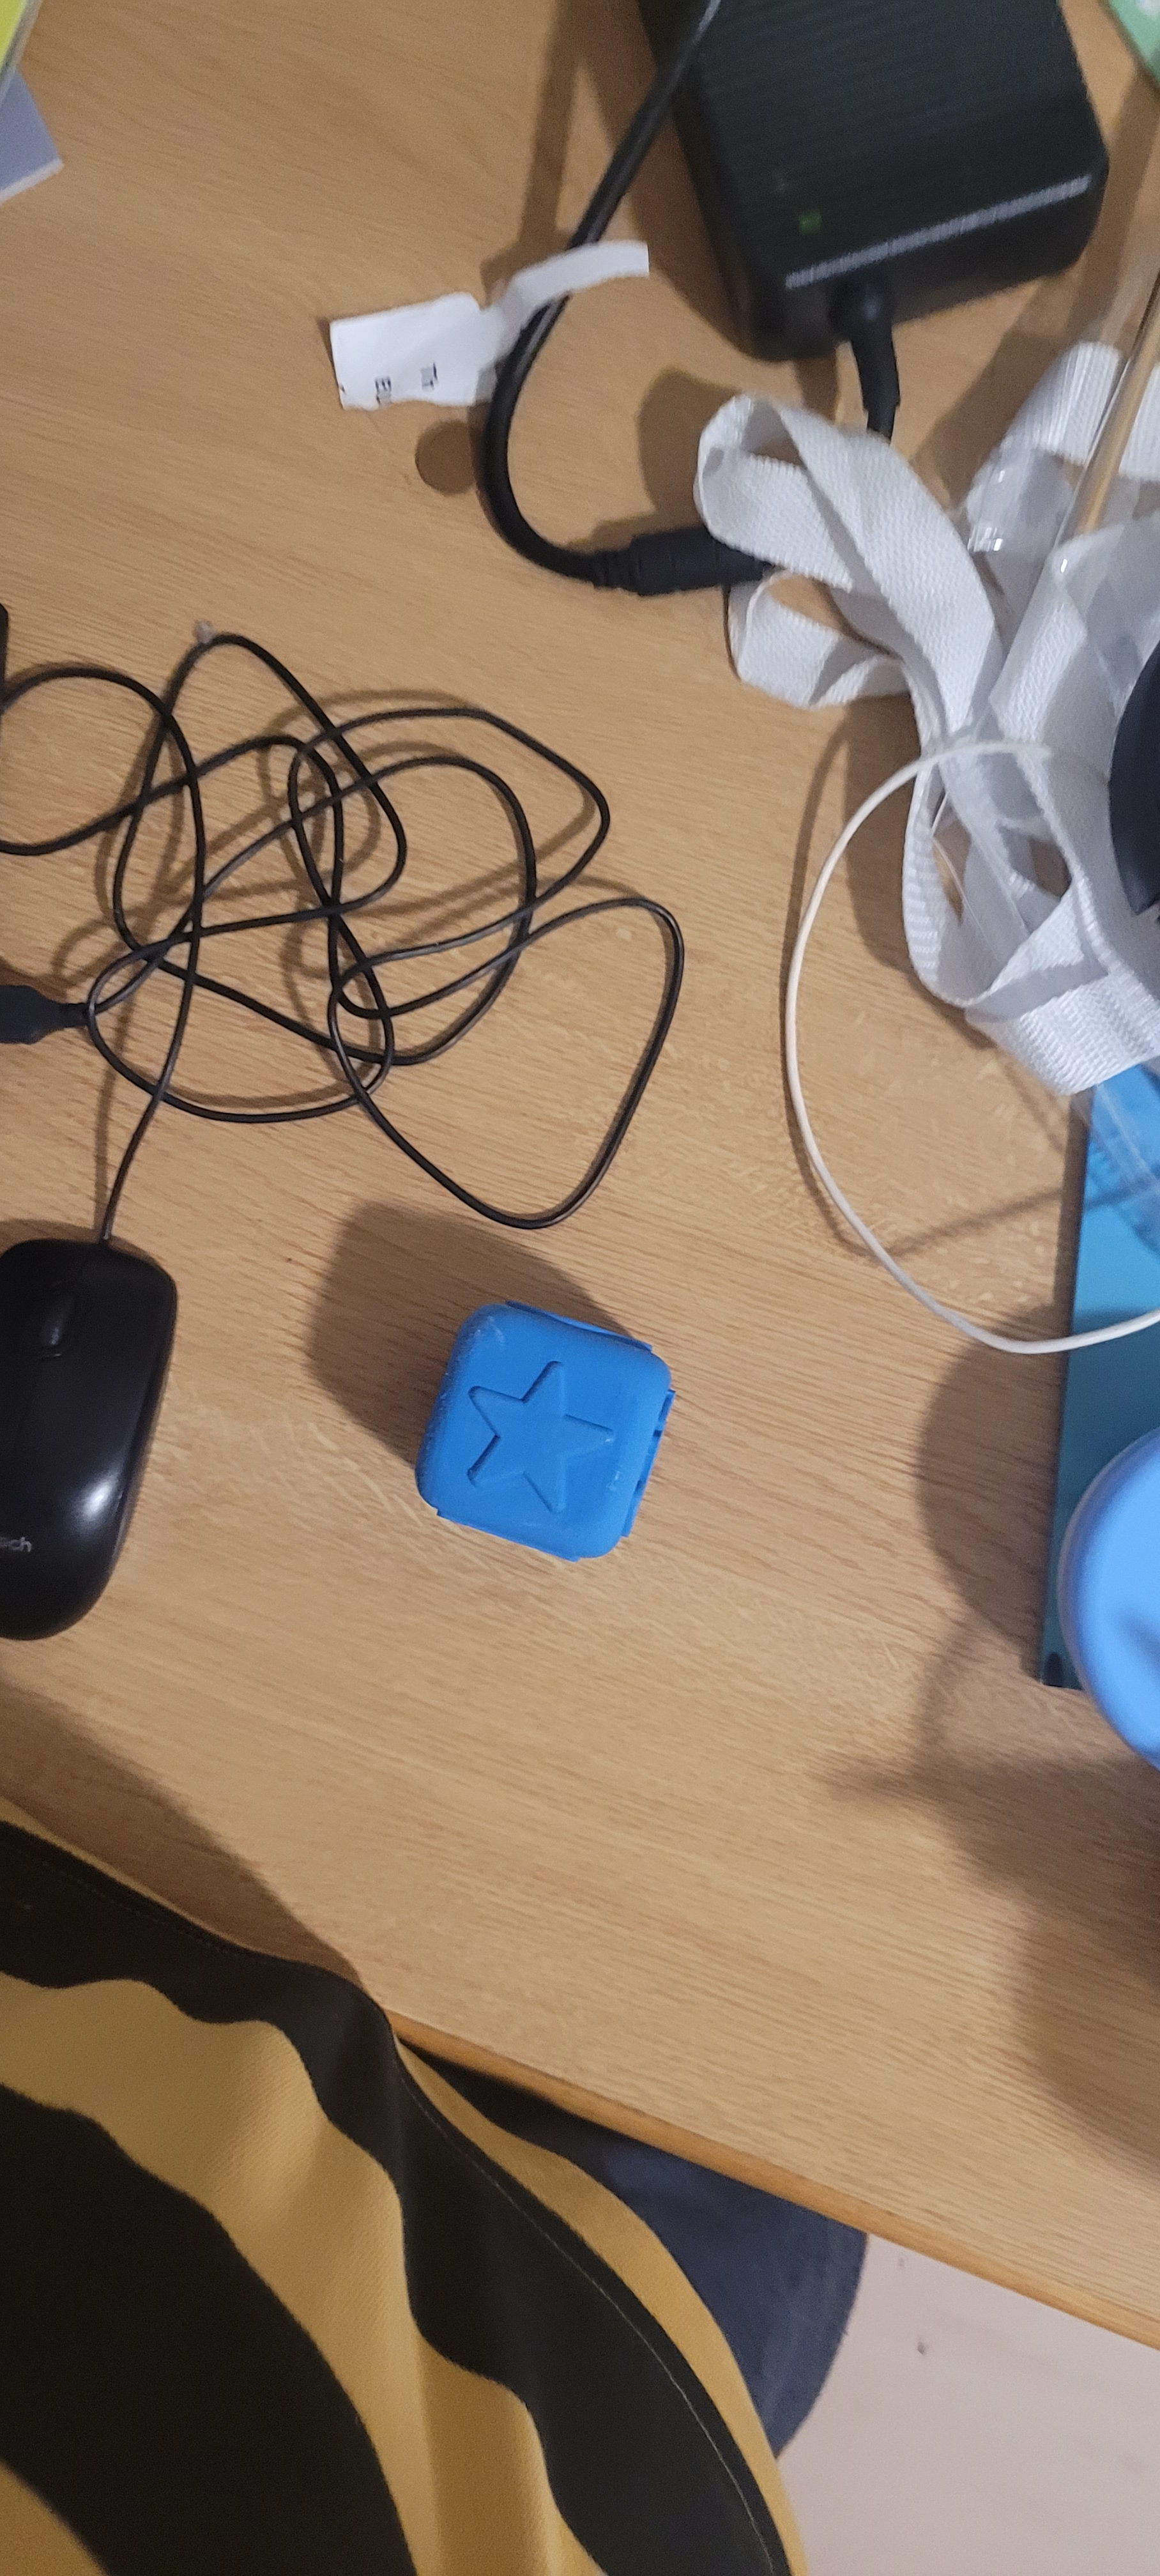Star: (414, 1327, 669, 1520)
